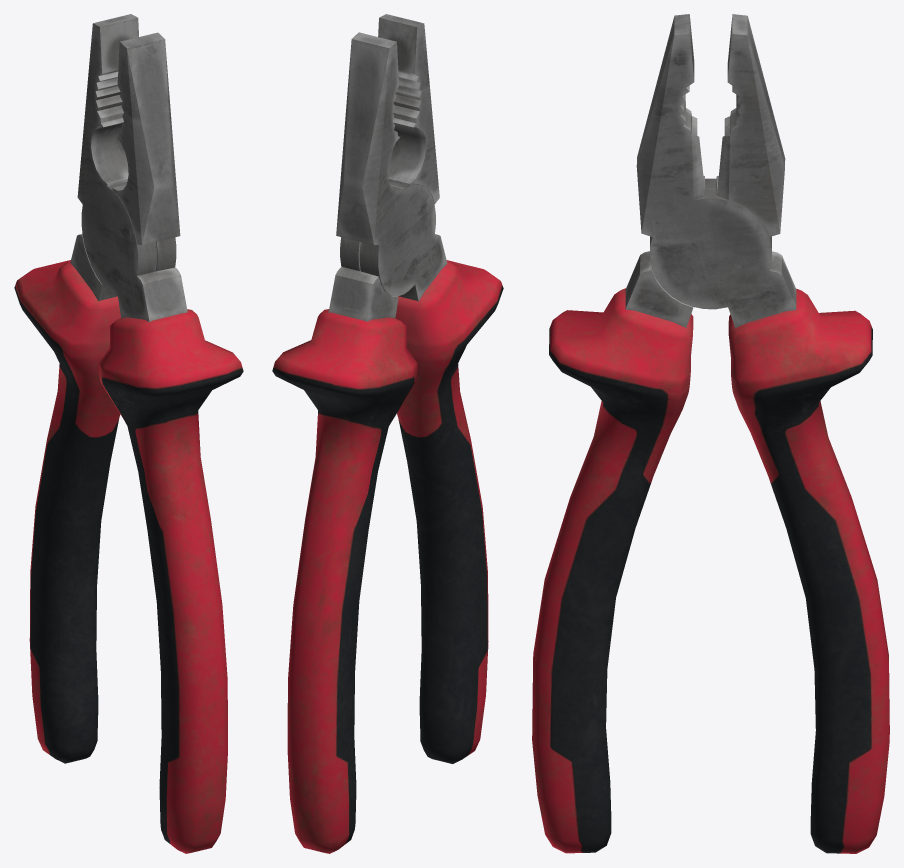
The picture shows the model from 3 angles, left to right: view 1: azimuth 30°, elevation 25°; view 2: azimuth 150°, elevation 25°; view 3: azimuth 270°, elevation 25°; orthographic projection. The views are drawn at different scales.
Visible parts, largest first — view 1: Righ, Left; view 2: Left, Righ; view 3: Left, Righ.
Boxes of the visible parts, left/top/right/bottom form: Righ: left=77, top=14, right=243, bottom=853; Left: left=14, top=32, right=180, bottom=763; Left: left=272, top=14, right=439, bottom=853; Righ: left=336, top=32, right=503, bottom=763; Left: left=636, top=14, right=889, bottom=853; Righ: left=532, top=14, right=785, bottom=853.
Bounding box in the file's own units: 0.0267 × 0.193 × 0.0759.
1 material, 1 textured.
